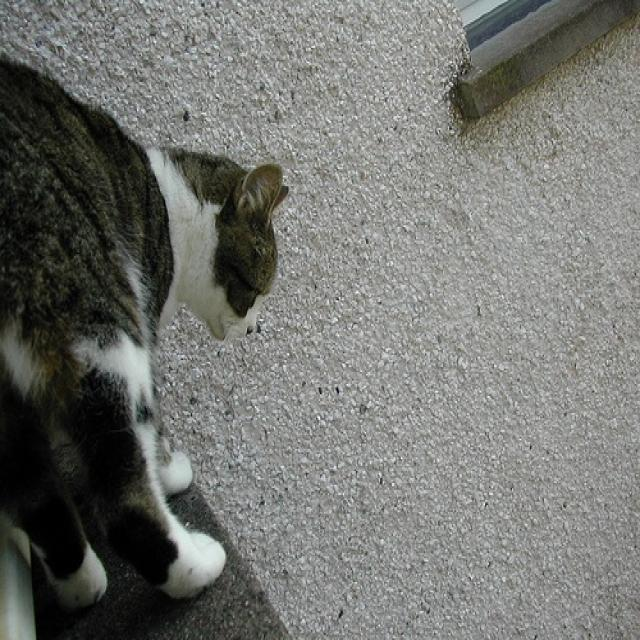cat: (2, 51, 294, 621)
